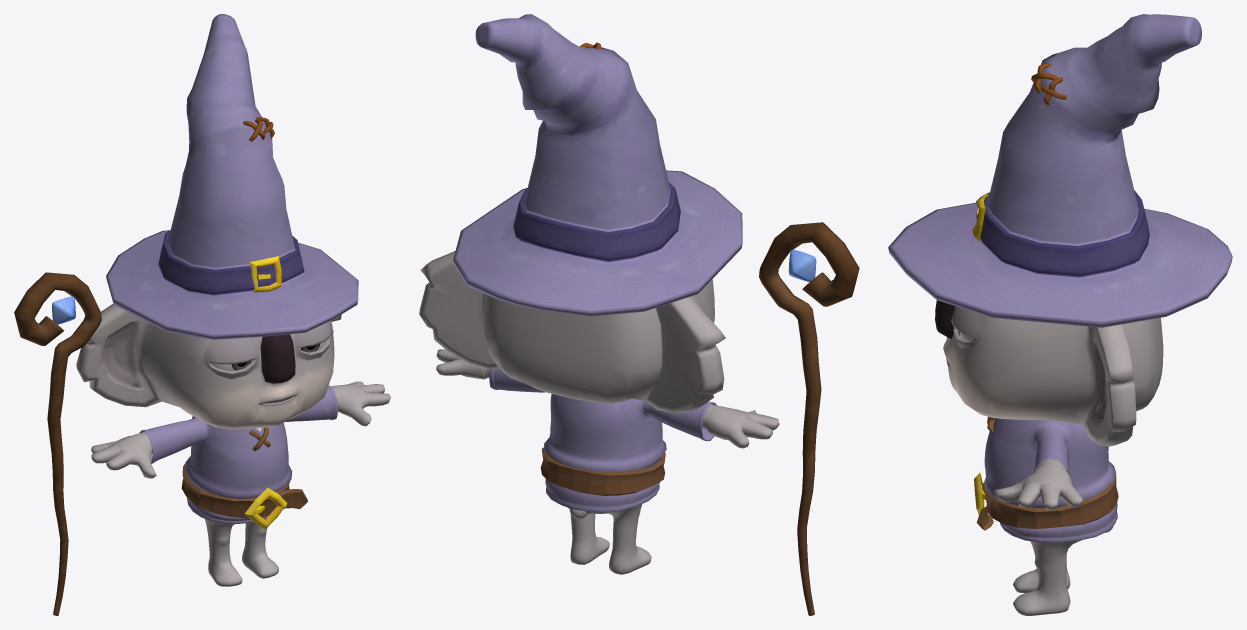
The model's file is Koko_BOOMi_V1.glb.
The picture shows the model from 3 angles, left to right: view 1: azimuth 30°, elevation 25°; view 2: azimuth 150°, elevation 25°; view 3: azimuth 270°, elevation 25°; orthographic projection. The views are drawn at different scales.
Parts seen in each view (by area): view 1: hat, cuerpo1, ropa3, baston2, cinto, evilla, evilla_hat; view 2: hat, cuerpo1, ropa3, baston2, cinto; view 3: hat, cuerpo1, ropa3, cinto.
Boxes of the visible parts, left/top/right/bottom form: hat: left=106, top=14, right=358, bottom=339; cuerpo1: left=76, top=304, right=390, bottom=586; ropa3: left=139, top=385, right=338, bottom=523; baston2: left=14, top=272, right=101, bottom=615; cinto: left=181, top=463, right=307, bottom=518; evilla: left=245, top=487, right=287, bottom=529; evilla_hat: left=249, top=256, right=281, bottom=292; hat: left=453, top=14, right=742, bottom=316; cuerpo1: left=419, top=251, right=779, bottom=574; ropa3: left=489, top=368, right=716, bottom=512; baston2: left=759, top=222, right=859, bottom=615; cinto: left=540, top=447, right=665, bottom=495; hat: left=888, top=14, right=1232, bottom=327; cuerpo1: left=935, top=300, right=1163, bottom=615; ropa3: left=984, top=418, right=1117, bottom=542; cinto: left=976, top=474, right=1118, bottom=530.
Size of the model in its own units: 1.29 by 1.69 by 0.8694.
6 materials, 6 textured.
